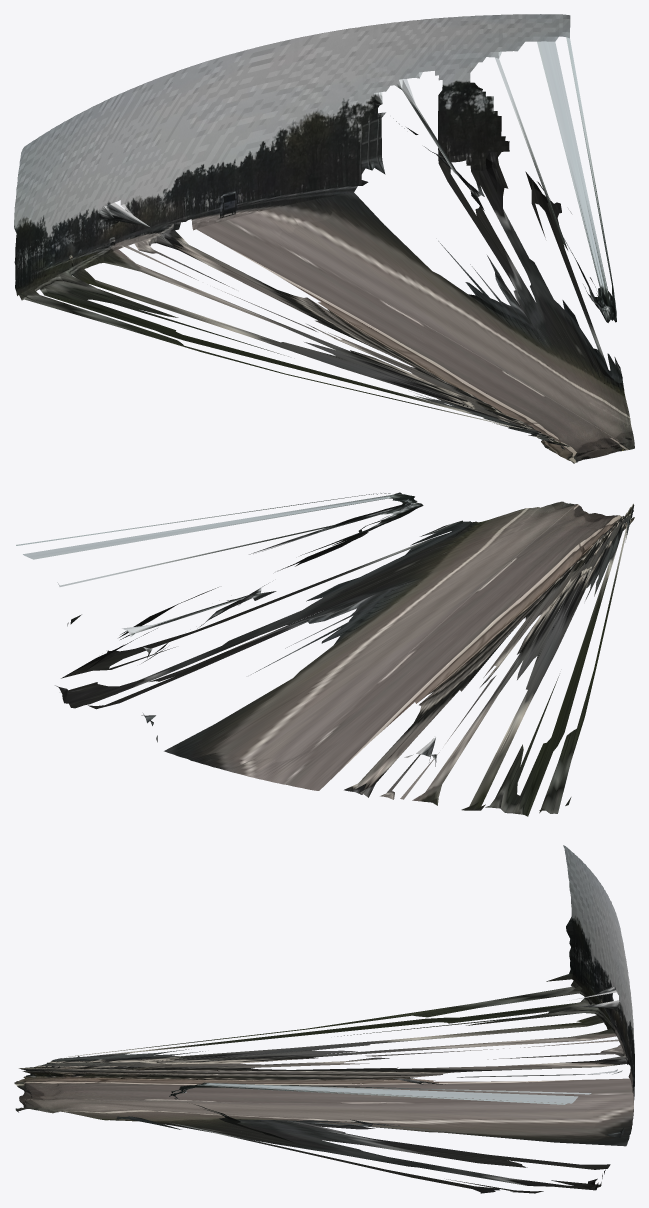
3 views of the same model, one above another, from view 1: azimuth 30°, elevation 25°; view 2: azimuth 150°, elevation 25°; view 3: azimuth 270°, elevation 25° (orthographic). The views are drawn at different scales.
Visible parts, largest first — view 1: defaultobject; view 2: defaultobject; view 3: defaultobject.
Part boxes in pixels (<box>): defaultobject: <box>14,14,634,463</box>; defaultobject: <box>16,492,634,816</box>; defaultobject: <box>14,845,634,1193</box>.
Size of the model in its own units: 40.91 by 12.34 by 44.66.
1 material, 1 textured.
